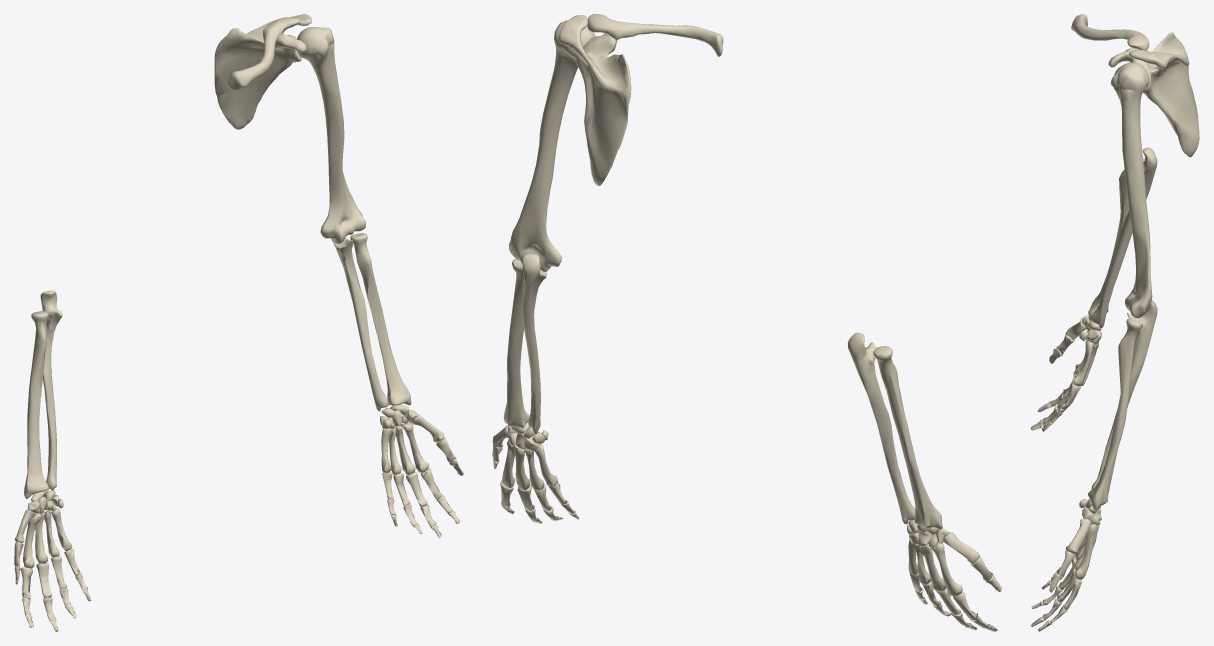
Rendered from upper-limb-mobile.glb.
3 renders of one model, left to right at view 1: azimuth 30°, elevation 25°; view 2: azimuth 150°, elevation 25°; view 3: azimuth 270°, elevation 25°, orthographic. The views are drawn at different scales.
Visible parts, largest first — view 1: bp3d.FMA23131, bp3d.FMA13396, bp3d.FMA23914, bp3d.FMA9612, bp3d.FMA23464, bp3d.FMA23465, bp3d.FMA23468, bp3d.FMA23467, bp3d.FMA13323, bp3d.FMA23889; view 2: bp3d.FMA13396, bp3d.FMA23131, bp3d.FMA9612, bp3d.FMA23914, bp3d.FMA23467, bp3d.FMA23464, bp3d.FMA23465, bp3d.FMA23468, bp3d.FMA13323, bp3d.FMA23889; view 3: bp3d.FMA23131, bp3d.FMA13396, bp3d.FMA23914, bp3d.FMA23465, bp3d.FMA9612, bp3d.FMA23467, bp3d.FMA23468, bp3d.FMA13323, bp3d.FMA23889, bp3d.FMA23464.
Boxes of the visible parts, x1,y1,x2,y2 form: bp3d.FMA23131: (296,27,365,243); bp3d.FMA13396: (214,14,311,129); bp3d.FMA23914: (14,437,463,631); bp3d.FMA9612: (14,414,444,568); bp3d.FMA23464: (24,311,49,498); bp3d.FMA23465: (350,233,411,405); bp3d.FMA23468: (331,237,388,411); bp3d.FMA23467: (40,290,62,490); bp3d.FMA13323: (228,17,299,90); bp3d.FMA23889: (27,404,417,513); bp3d.FMA13396: (559,15,631,185); bp3d.FMA23131: (509,20,595,271); bp3d.FMA9612: (492,425,979,596); bp3d.FMA23914: (492,442,1001,631); bp3d.FMA23467: (847,332,915,524); bp3d.FMA23464: (873,346,942,529); bp3d.FMA23465: (503,258,529,427); bp3d.FMA23468: (522,253,546,433); bp3d.FMA13323: (587,14,723,56); bp3d.FMA23889: (506,424,949,547); bp3d.FMA23131: (1111,62,1152,318); bp3d.FMA13396: (1108,32,1199,157); bp3d.FMA23914: (1030,334,1081,631); bp3d.FMA23465: (1088,317,1143,510); bp3d.FMA9612: (1065,318,1100,579); bp3d.FMA23467: (1091,147,1157,328); bp3d.FMA23468: (1091,300,1157,489); bp3d.FMA13323: (1071,14,1149,50); bp3d.FMA23889: (1079,315,1101,525); bp3d.FMA23464: (1088,157,1143,316).
Size of the model in its own units: 0.6481 by 0.7022 by 0.2007.
